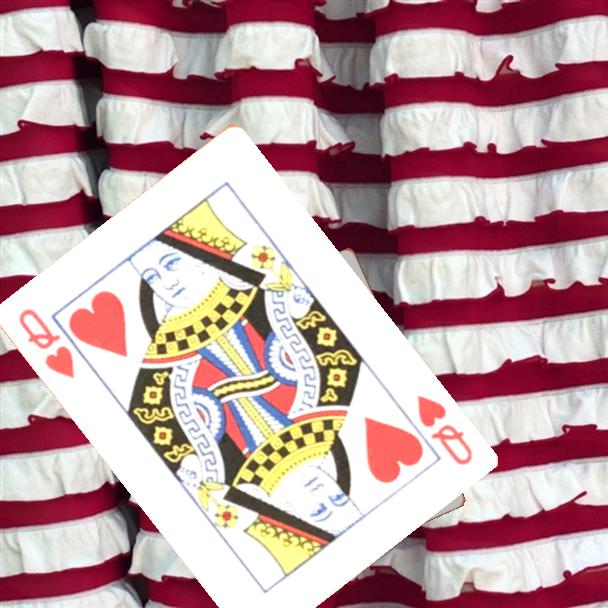h12: (412, 390, 475, 469), (14, 304, 77, 382)
